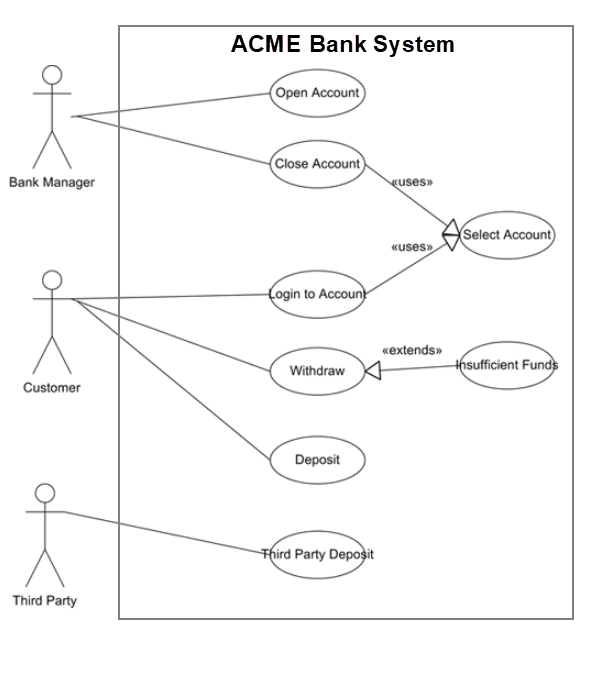actor: (31, 269, 75, 377), (24, 482, 67, 589), (33, 64, 73, 171)
association: (77, 303, 270, 461), (75, 300, 270, 373), (75, 116, 268, 164), (64, 511, 269, 556), (70, 91, 269, 119), (74, 289, 266, 301)
generalization: (363, 163, 460, 237), (366, 235, 459, 294), (364, 360, 458, 381)
text: (228, 32, 456, 58), (453, 356, 561, 377), (259, 545, 378, 563), (267, 285, 368, 303), (461, 226, 553, 245), (7, 175, 97, 192), (10, 592, 82, 612), (274, 85, 361, 101), (274, 156, 361, 172), (379, 343, 445, 360), (286, 362, 348, 380), (21, 380, 85, 396), (293, 452, 346, 470), (384, 238, 435, 255), (388, 177, 433, 189)
use_case: (460, 209, 558, 262), (268, 68, 367, 118), (268, 529, 367, 579), (269, 139, 366, 190), (458, 341, 558, 390), (268, 270, 366, 319), (270, 346, 366, 396), (269, 435, 366, 484)
